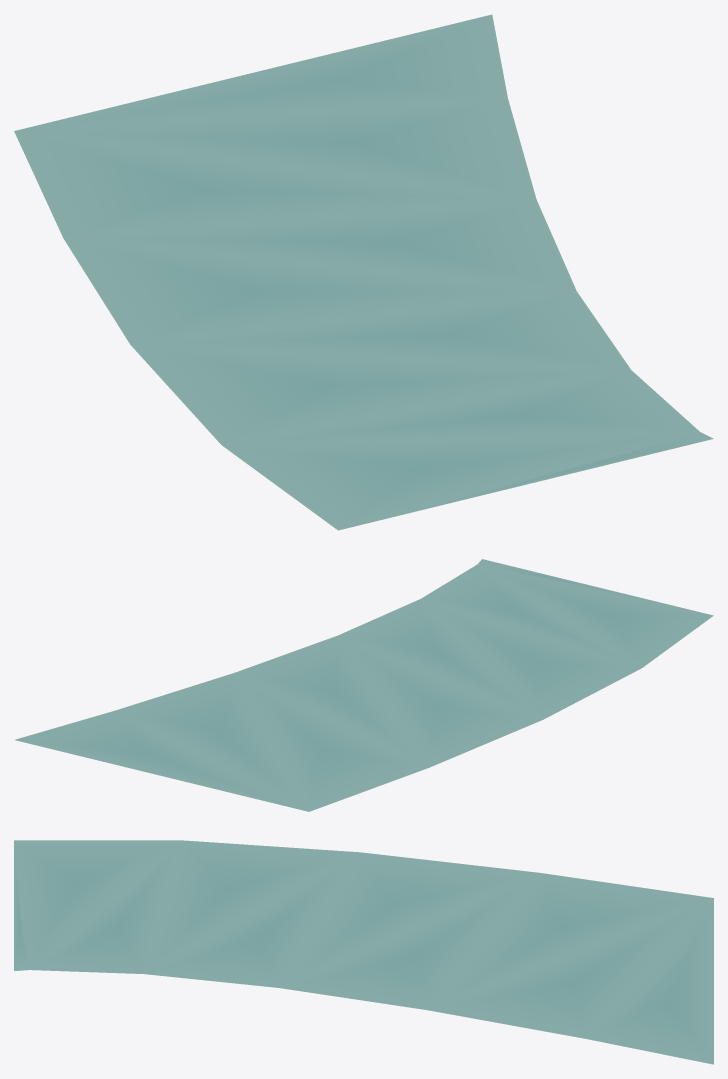
The model's file is water-15-7.glb.
The picture shows the model from 3 angles, top to bottom: view 1: azimuth 30°, elevation 25°; view 2: azimuth 150°, elevation 25°; view 3: azimuth 270°, elevation 25°; orthographic projection. The views are drawn at different scales.
Size of the model in its own units: 12.14 by 0 by 16.
